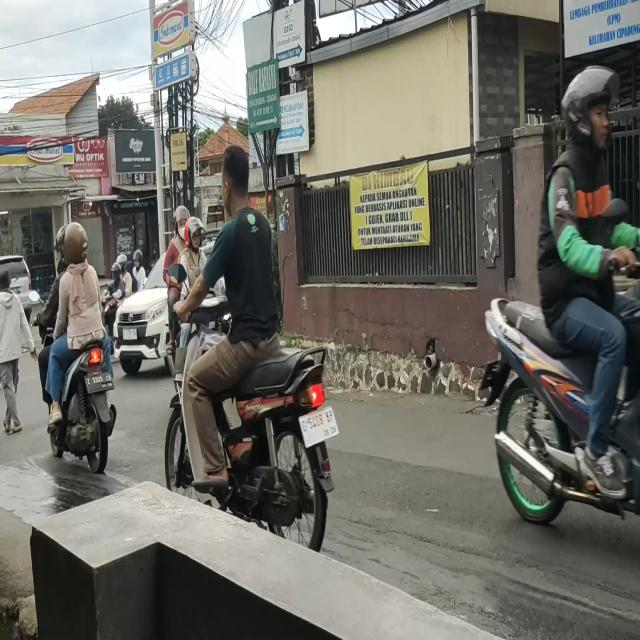helmet: (563, 70, 612, 147), (62, 225, 90, 266), (182, 217, 202, 249), (175, 208, 192, 240)
no-helmet: (222, 147, 254, 214)
